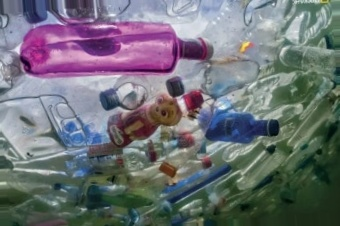plastic: (14, 21, 212, 76)
